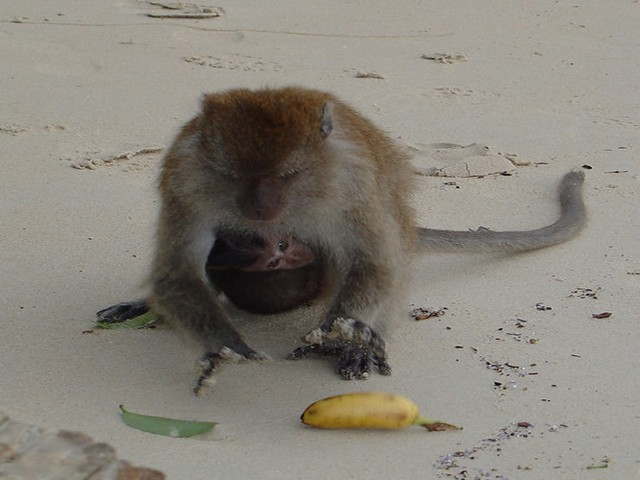Monkey: (141, 80, 511, 383)
